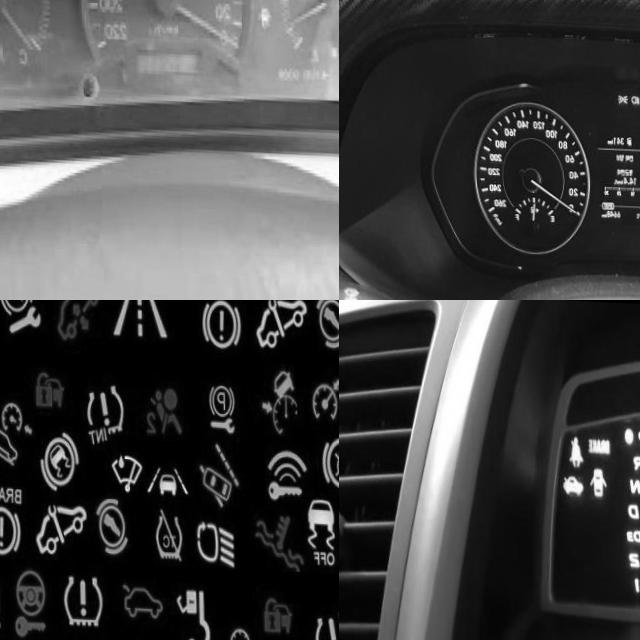Engine cooling system: (254, 506, 303, 566)
Low beam: (631, 91, 640, 102)
SideLamp: (617, 90, 628, 101)
